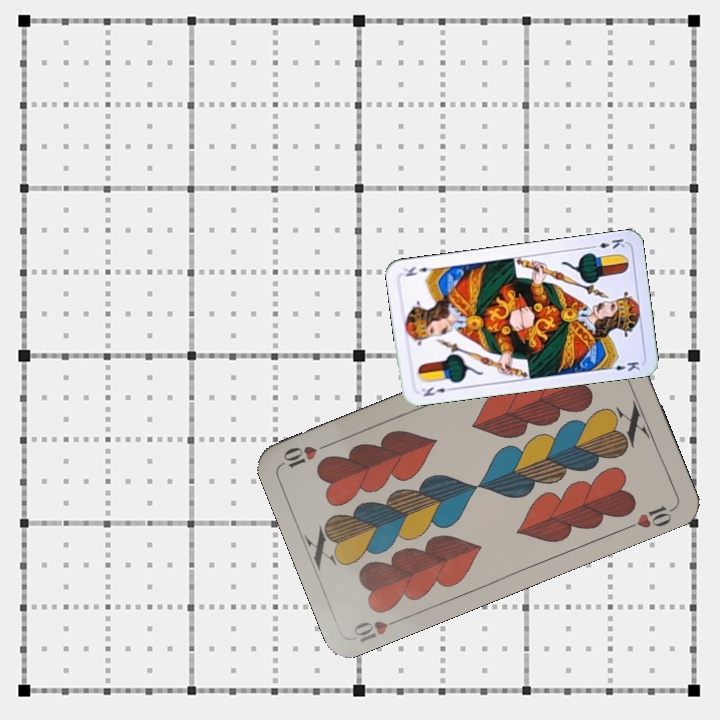EK: (586, 234, 627, 251), (417, 383, 456, 399)
H10: (349, 613, 407, 645)
